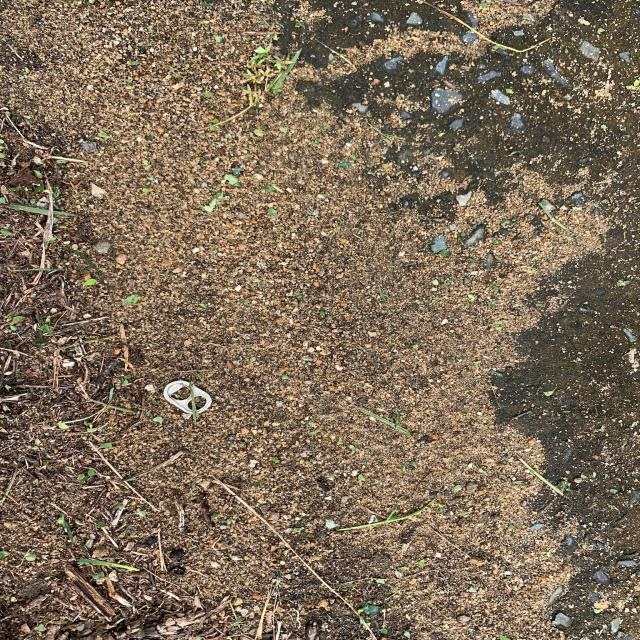litter: (161, 377, 213, 415)
